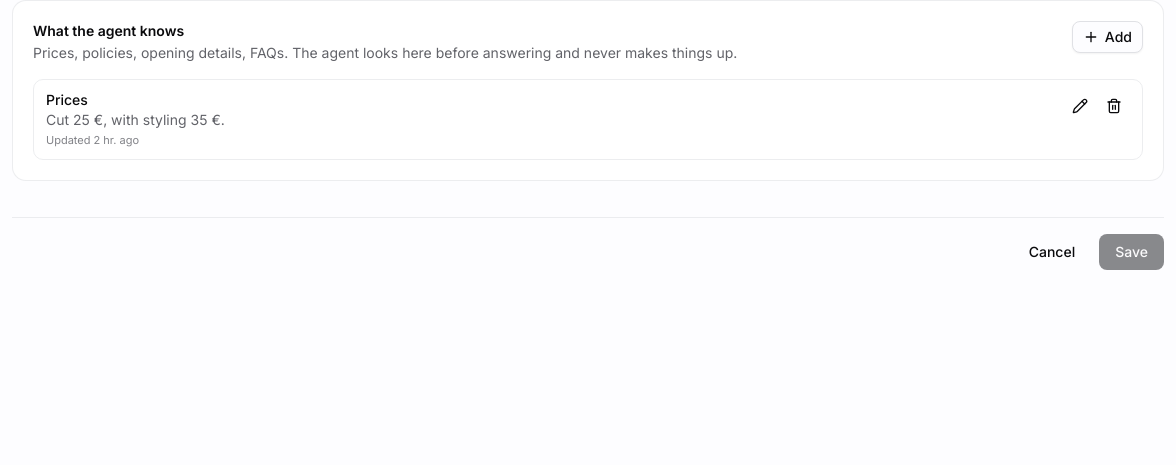
Test case: KnowledgeTab › keeps the panel open with a message when the cap is reached
Click the button "Add" at (1107, 37), box x1=1072 y1=21 x2=1143 y2=53
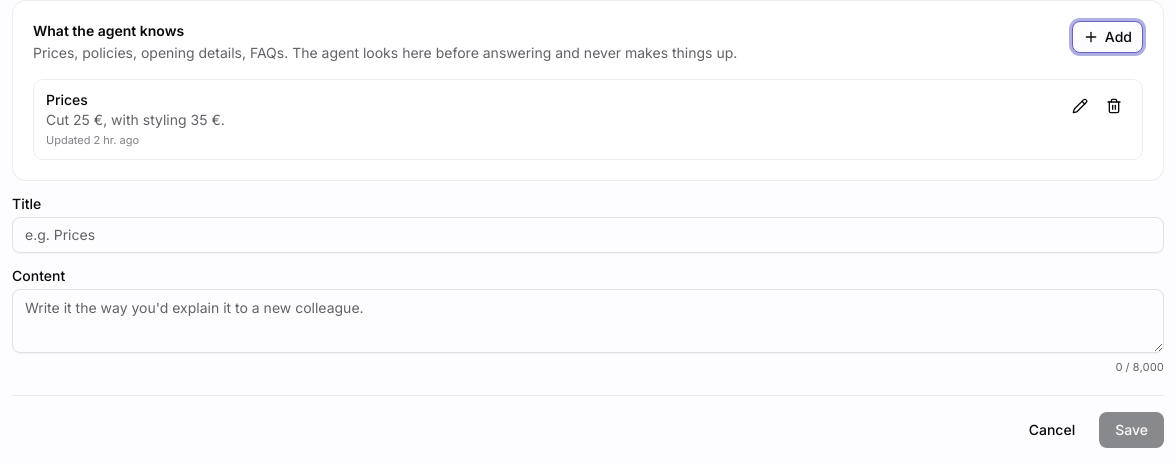
Type "A" into the field labelled "Title" at (588, 234), box x1=12 y1=216 x2=1164 y2=252
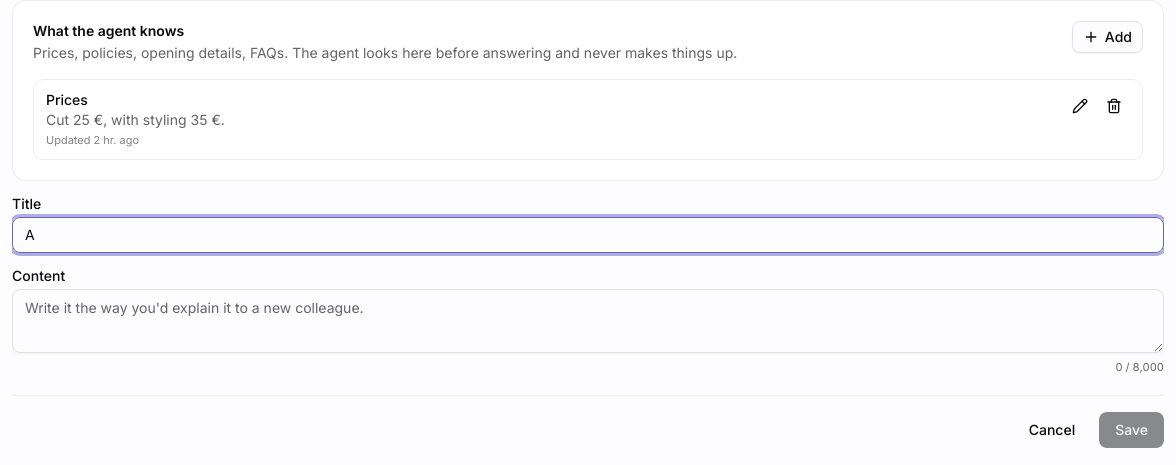
Type "B" into the text box labelled "Content" at (588, 320), box x1=12 y1=288 x2=1164 y2=352
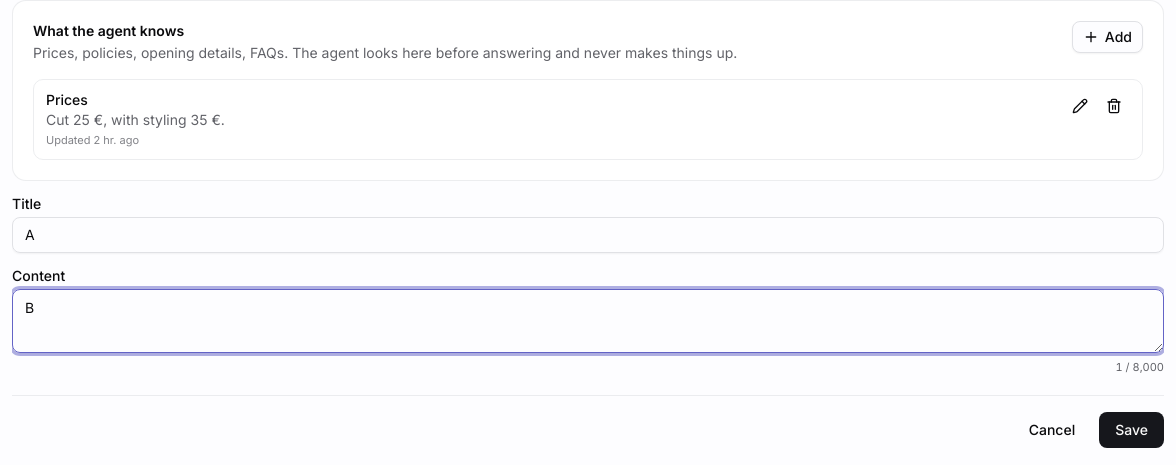
Click the button "Save" at (1132, 430), box x1=1099 y1=412 x2=1164 y2=448
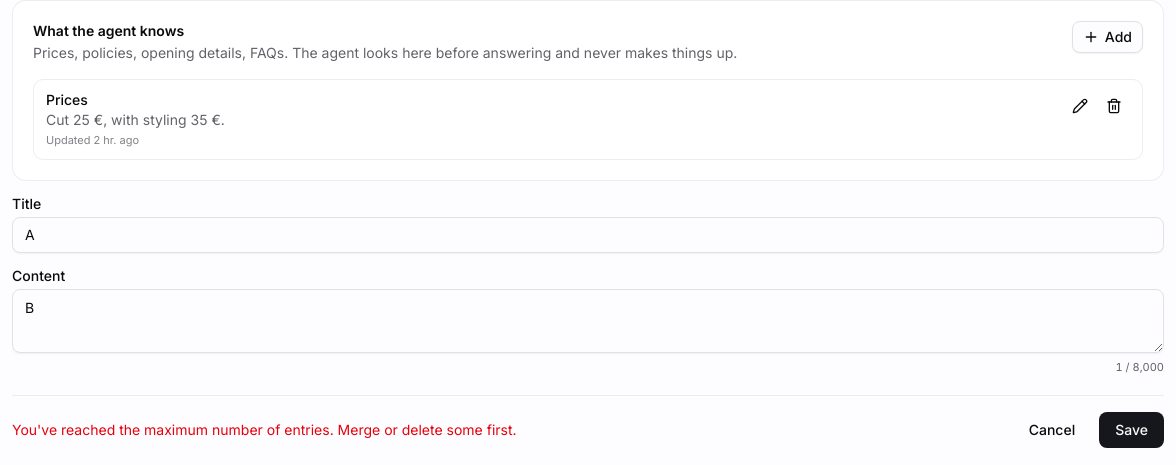
Result: the message shows "maximum number of entries" at x1=12 y1=421 x2=517 y2=438
